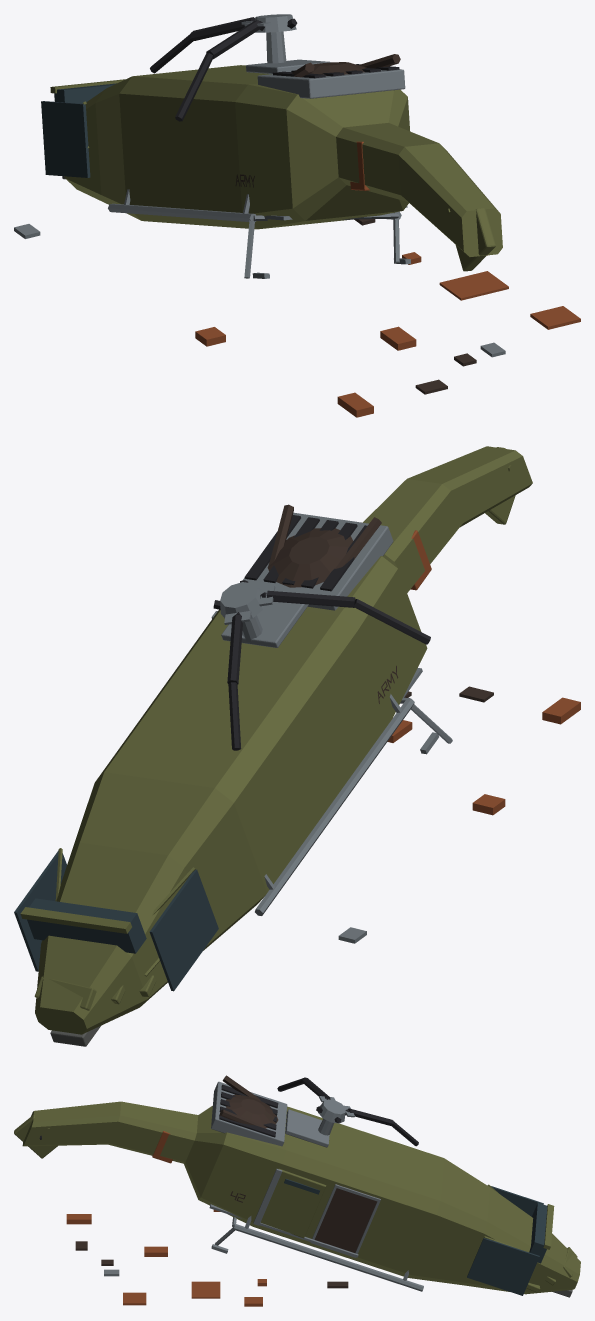
Rendered from heli_crashed.glb.
3 renders of one model, top to bottom at view 1: azimuth 30°, elevation 25°; view 2: azimuth 150°, elevation 25°; view 3: azimuth 270°, elevation 25°, orthographic. The views are drawn at different scales.
Visible parts, largest first — view 1: heli_crashed; view 2: heli_crashed; view 3: heli_crashed.
Part boxes in pixels (x1,y1,x2,y2): heli_crashed: (14, 14, 580, 417); heli_crashed: (14, 446, 580, 1046); heli_crashed: (14, 1075, 580, 1306).
Size of what is drawn, in the model's own units: 6.3 by 5.59 by 13.81.
3 materials, 3 textured.
